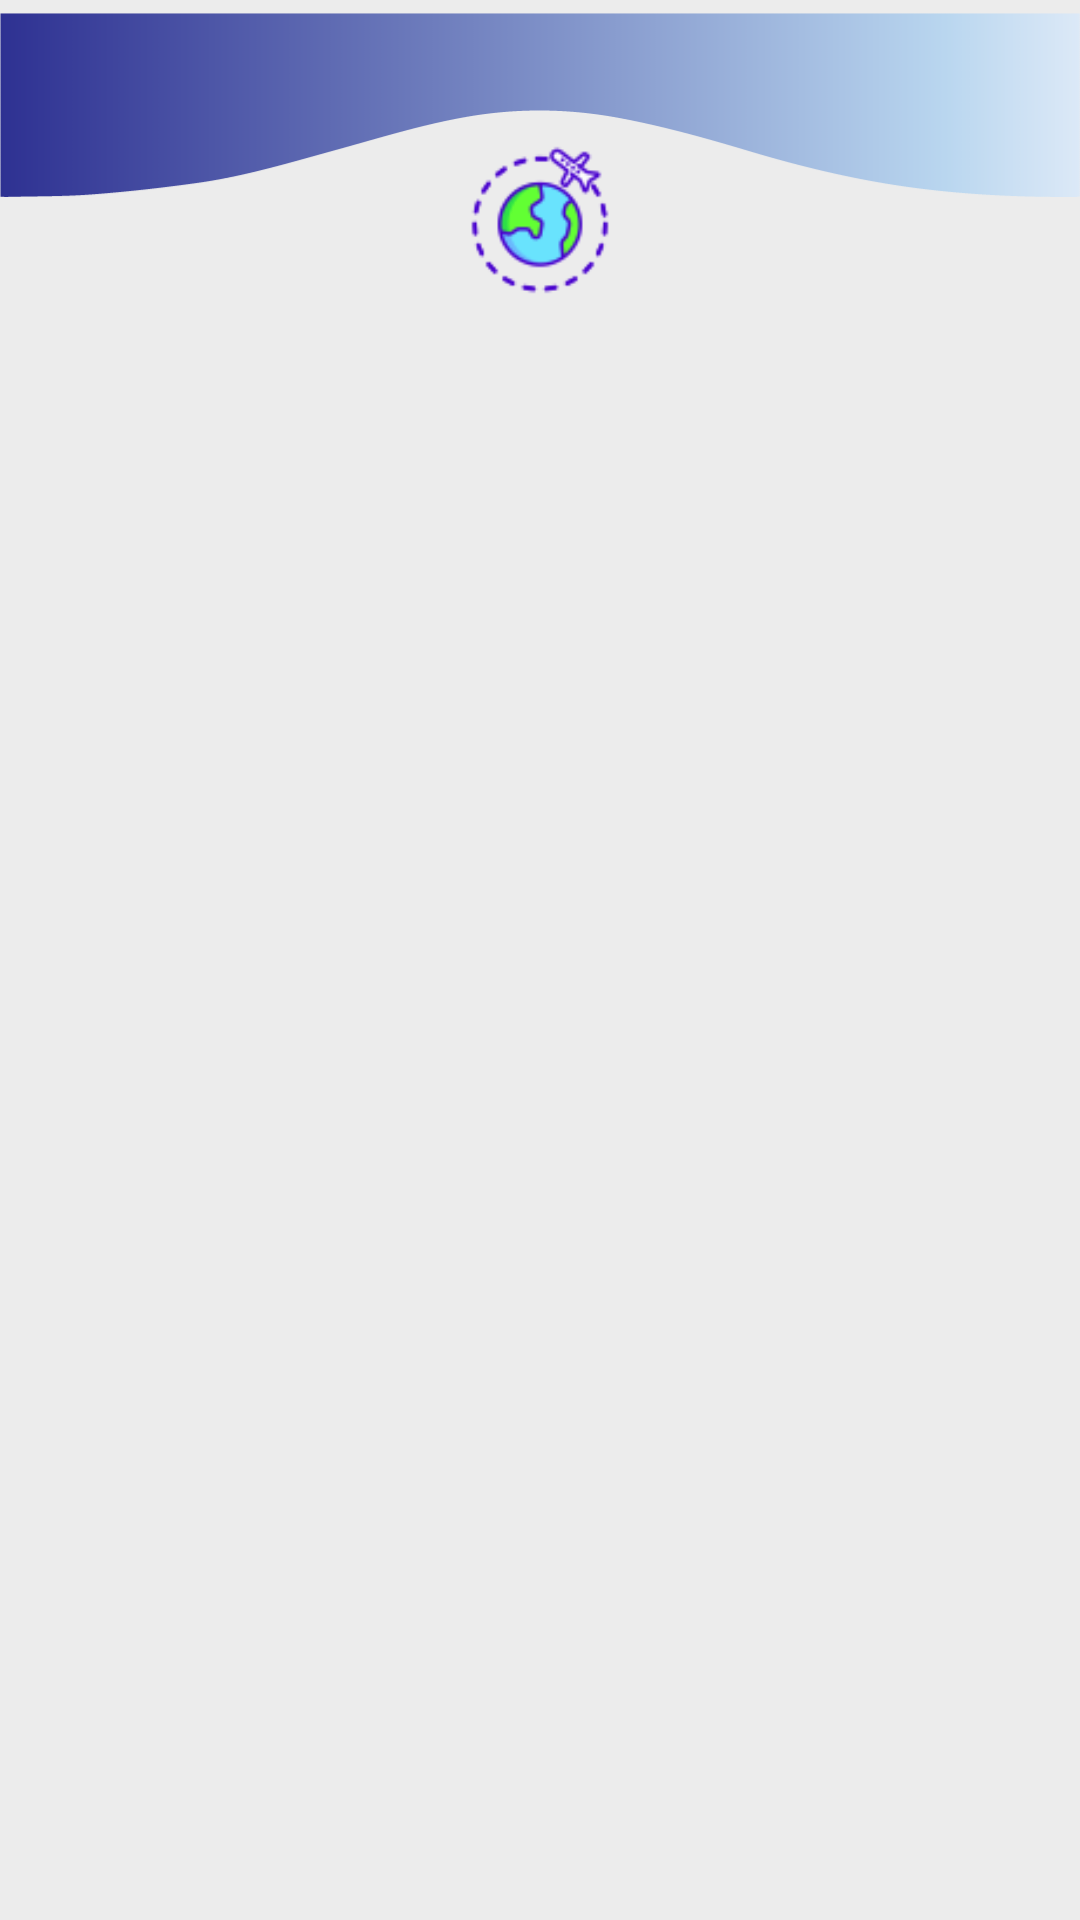

Icon click points for this 1080 x 1920 phone screenshot, format (x=x, y=y):
visit: (x=540, y=220)
